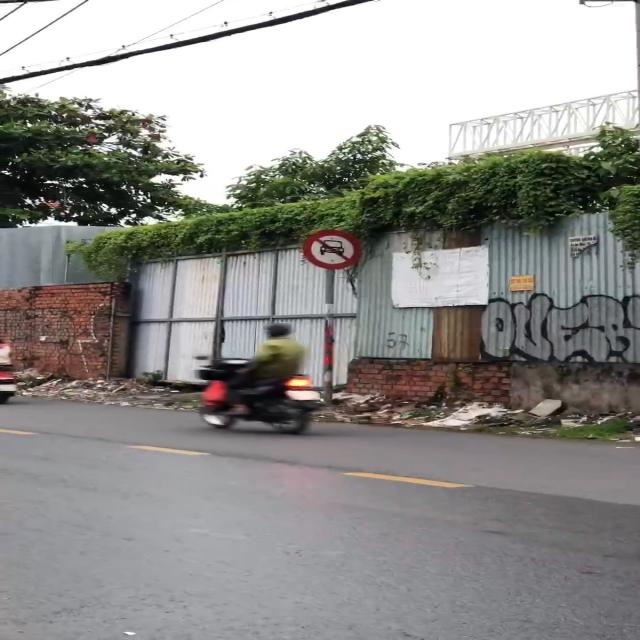Bien bao cam xe oto: (299, 229, 370, 271)
